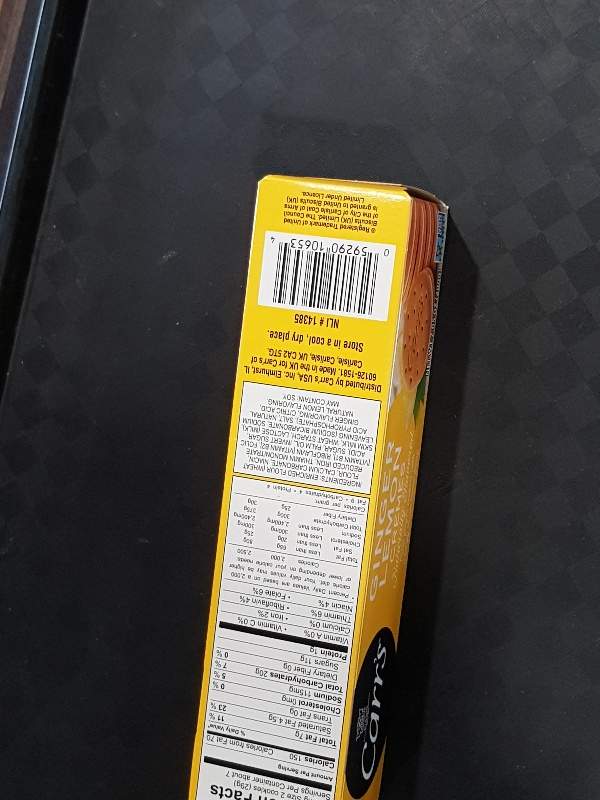Carr's Ginger Lemon Cremes: (187, 171, 451, 800)
